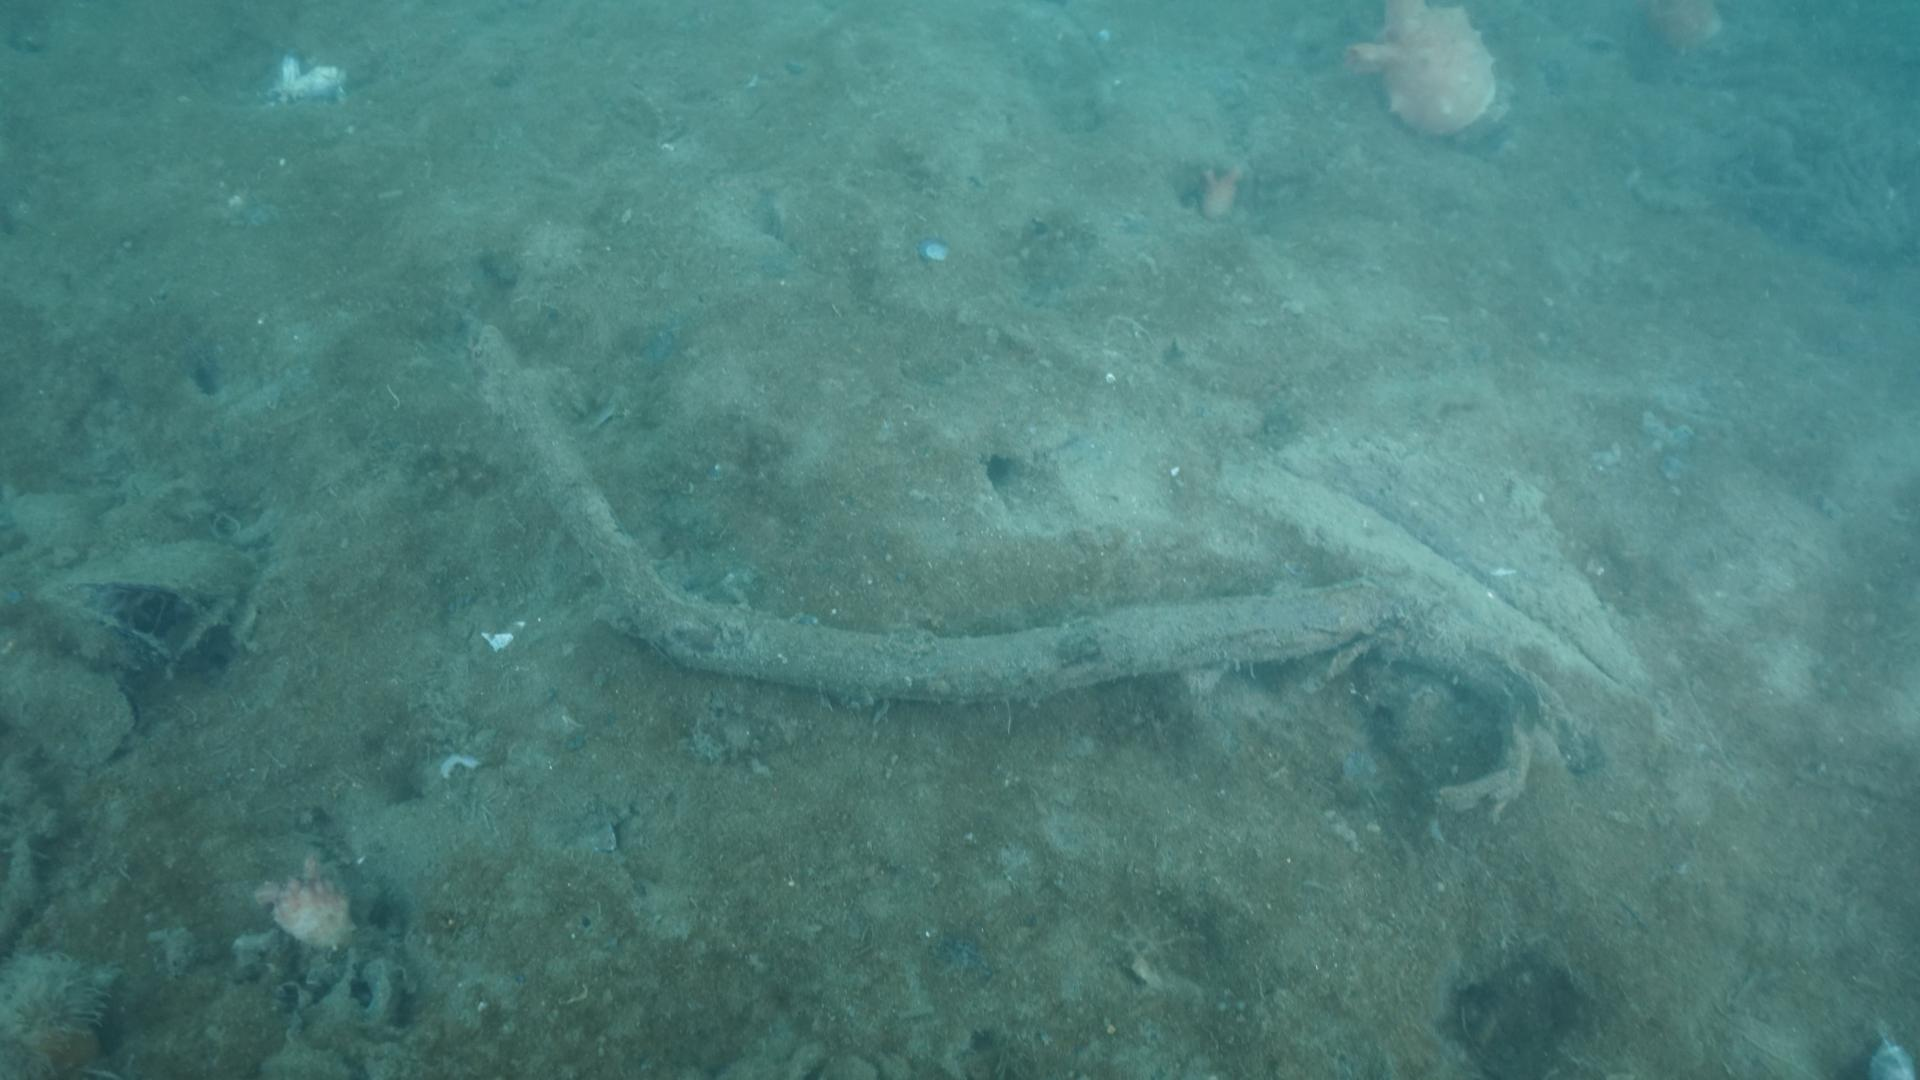wood: (454, 307, 1662, 823)
